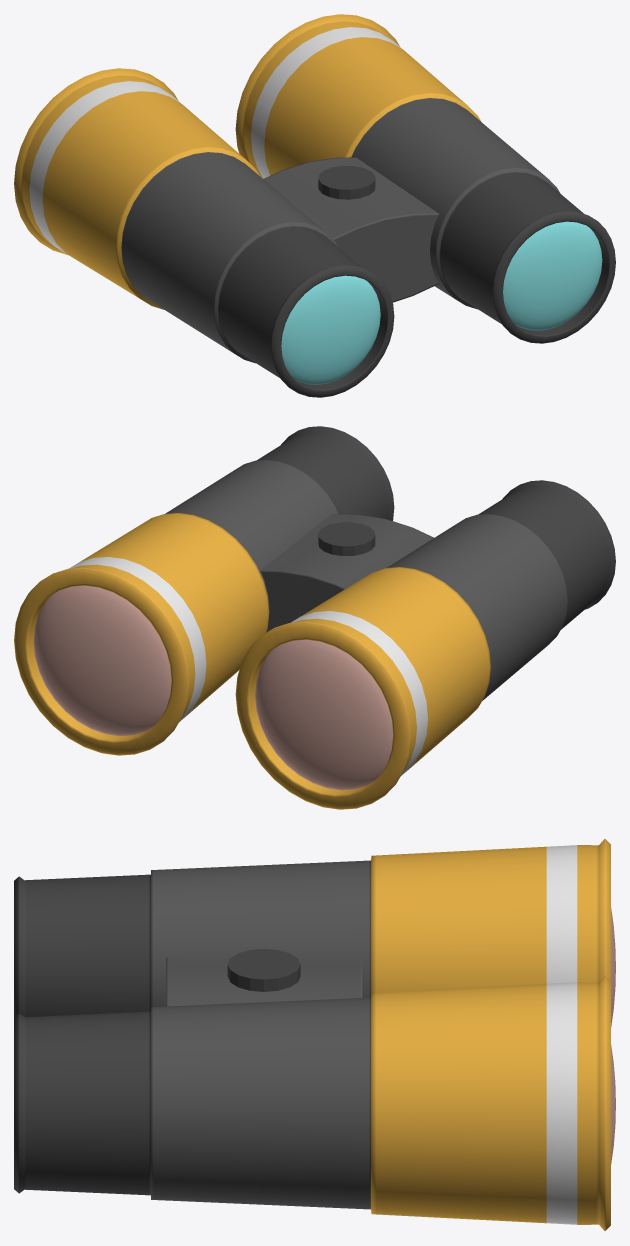
File: BobBinoculars.fbx
The picture shows the model from 3 angles, top to bottom: view 1: azimuth 30°, elevation 25°; view 2: azimuth 150°, elevation 25°; view 3: azimuth 270°, elevation 25°; orthographic projection. The views are drawn at different scales.
Visible parts, largest first — view 1: Binoculars; view 2: Binoculars, Eyelids; view 3: Binoculars, Eyelids.
Boxes of the visible parts, x1,y1,x2,y2 form: Binoculars: (14, 14, 615, 397); Binoculars: (14, 426, 615, 809); Eyelids: (33, 585, 393, 790); Binoculars: (14, 839, 610, 1230); Eyelids: (611, 907, 615, 1164).
Size of the model in its own units: 130 by 57.48 by 135.
